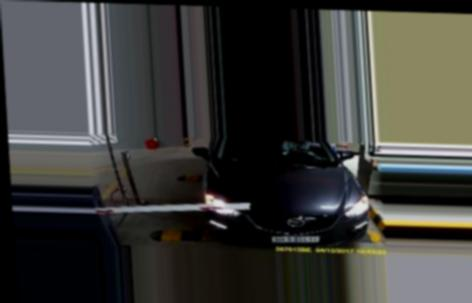License_Plate: (272, 231, 320, 244)
